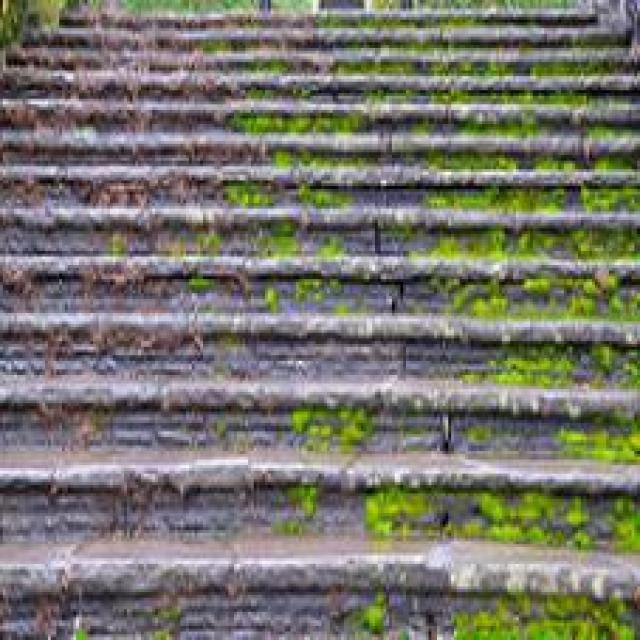stair: (9, 93, 601, 578)
